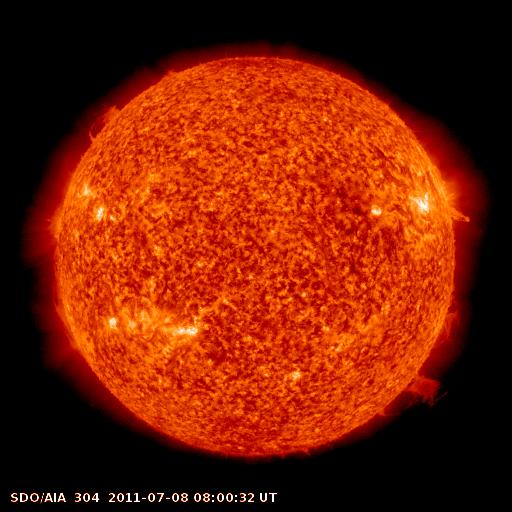prominence: (46, 245, 83, 355), (425, 290, 469, 353), (395, 368, 451, 409), (85, 99, 126, 144), (442, 205, 475, 230)
